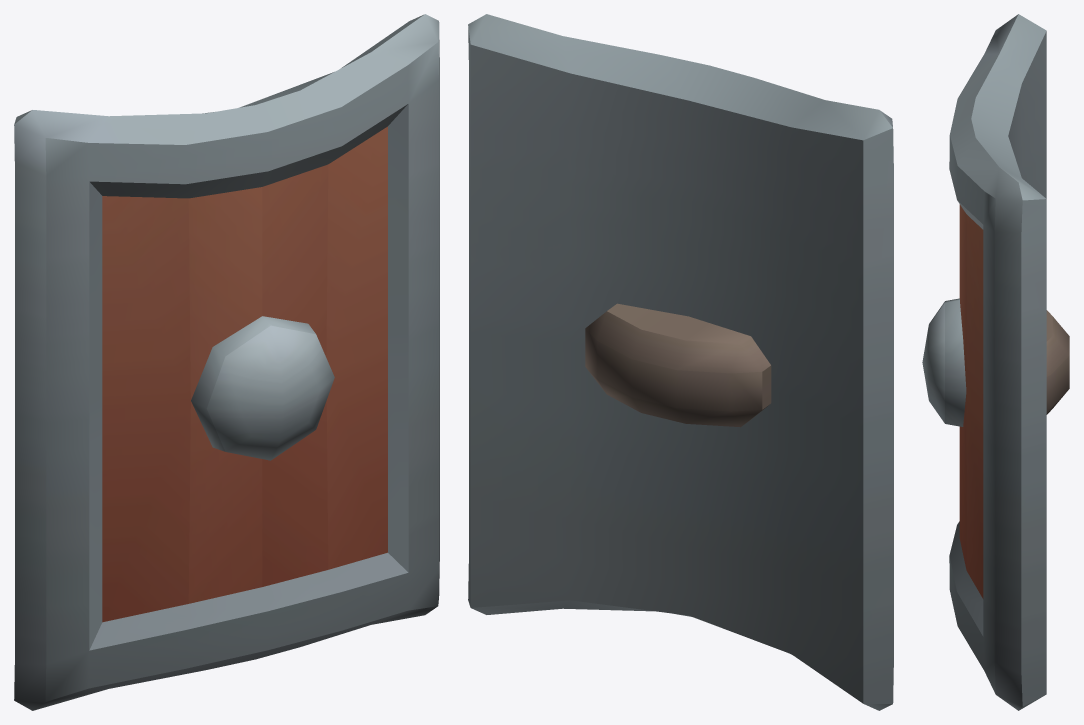
Rendered from shield_square.glb.
The picture shows the model from 3 angles, left to right: view 1: azimuth 30°, elevation 25°; view 2: azimuth 150°, elevation 25°; view 3: azimuth 270°, elevation 25°; orthographic projection. The views are drawn at different scales.
Parts seen in each view (by area): view 1: shield_square; view 2: shield_square; view 3: shield_square.
Part boxes in pixels (bbox=[...]): shield_square: bbox=[14, 14, 439, 710]; shield_square: bbox=[468, 14, 893, 710]; shield_square: bbox=[922, 14, 1069, 710].
Size of the model in its own units: 0.8825 by 1.19 by 0.301.
Materials: 1 (1 with a texture image).
